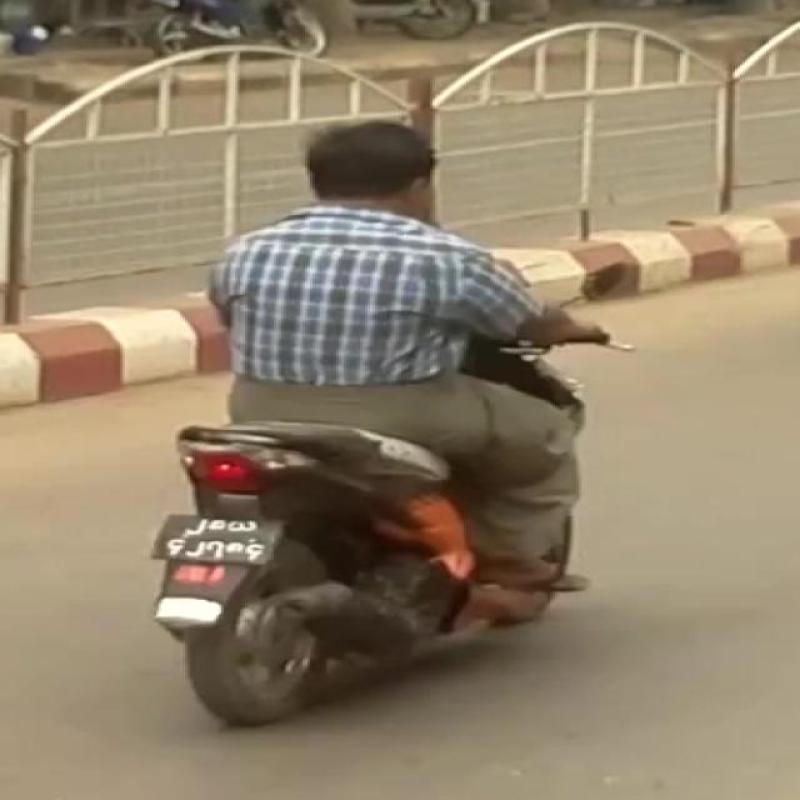nohelmet: (270, 118, 485, 219)
